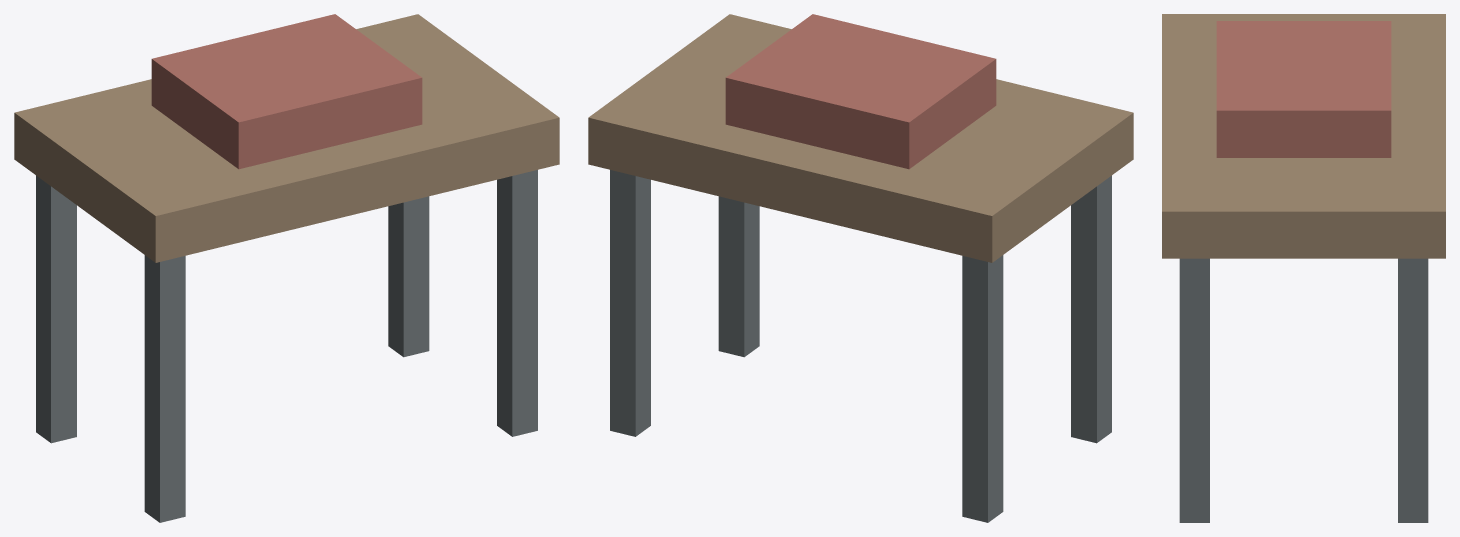
File: iz2_food_dehydrator.glb
3 renders of one model, left to right at view 1: azimuth 30°, elevation 25°; view 2: azimuth 150°, elevation 25°; view 3: azimuth 270°, elevation 25°, orthographic.
Visible parts, largest first — view 1: body; view 2: body; view 3: body.
Part boxes in pixels (left/top/right/bottom): body: left=14, top=14, right=559, bottom=522; body: left=588, top=14, right=1133, bottom=522; body: left=1162, top=14, right=1445, bottom=522.
Size of the model in its own units: 1.09 by 0.937 by 0.6614.
